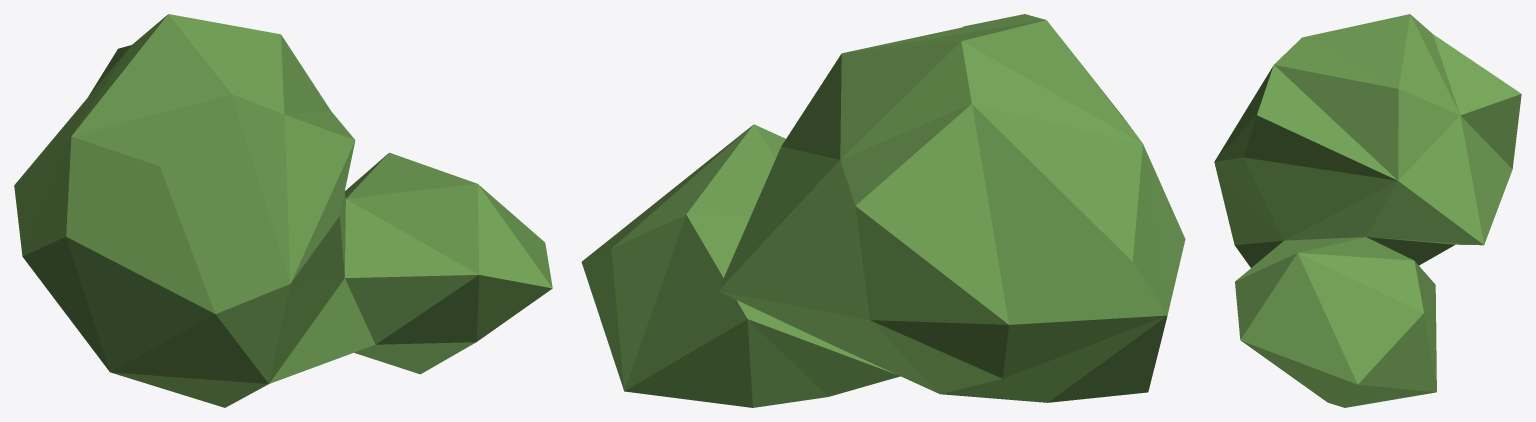
Rendered from SM_Env_Bush_03.fbx.
The picture shows the model from 3 angles, left to right: view 1: azimuth 30°, elevation 25°; view 2: azimuth 150°, elevation 25°; view 3: azimuth 270°, elevation 25°; orthographic projection. The views are drawn at different scales.
Parts seen in each view (by area): view 1: SM_Env_Bush_03; view 2: SM_Env_Bush_03; view 3: SM_Env_Bush_03.
Part boxes in pixels (x1,y1,x2,y2): SM_Env_Bush_03: (14, 14, 552, 407); SM_Env_Bush_03: (581, 14, 1185, 407); SM_Env_Bush_03: (1214, 14, 1521, 407).
Size of the model in its own units: 5.18 by 3.77 by 3.39.
Materials: 1 (1 with a texture image).
